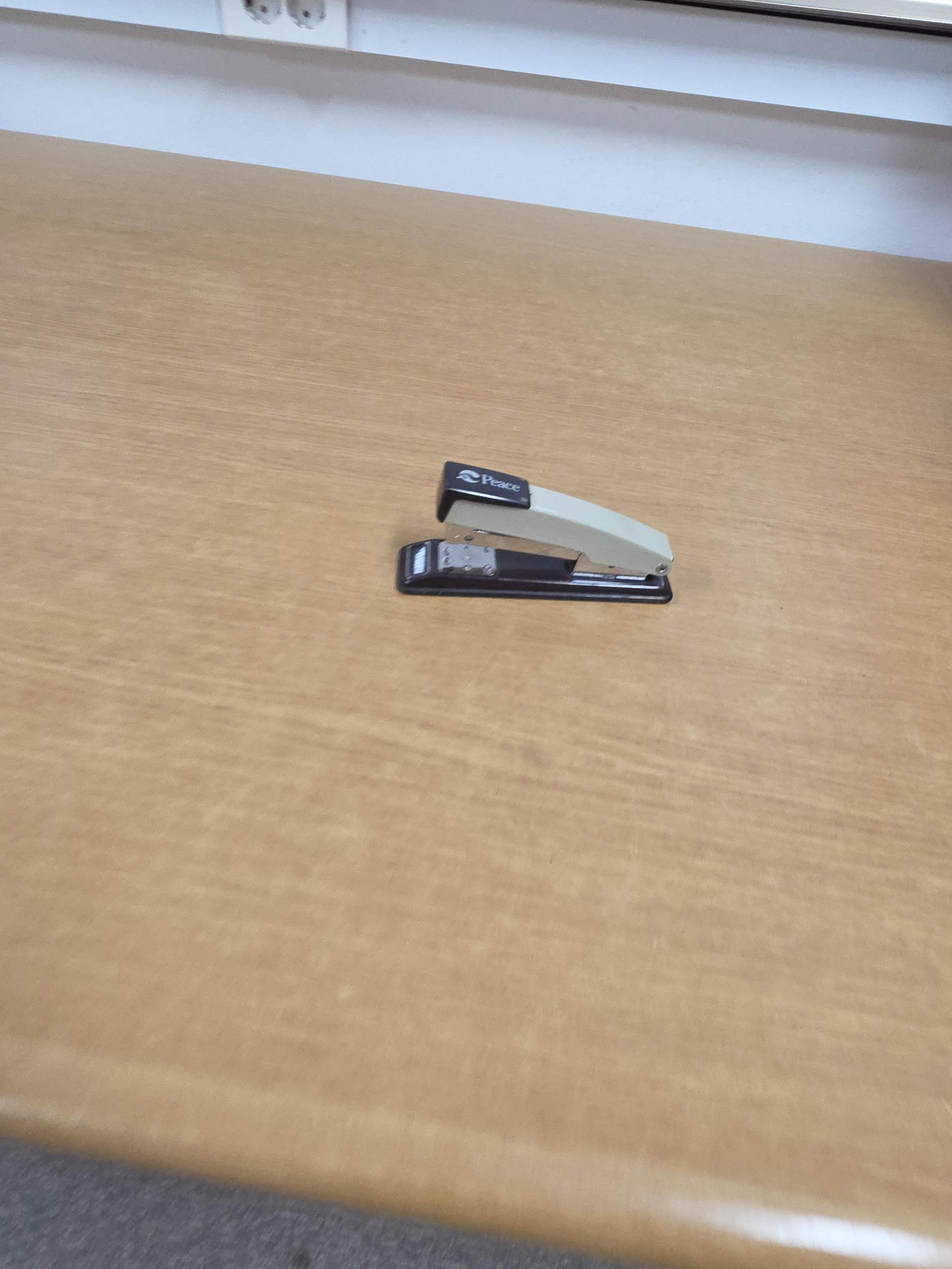stapler: (395, 461, 675, 605)
